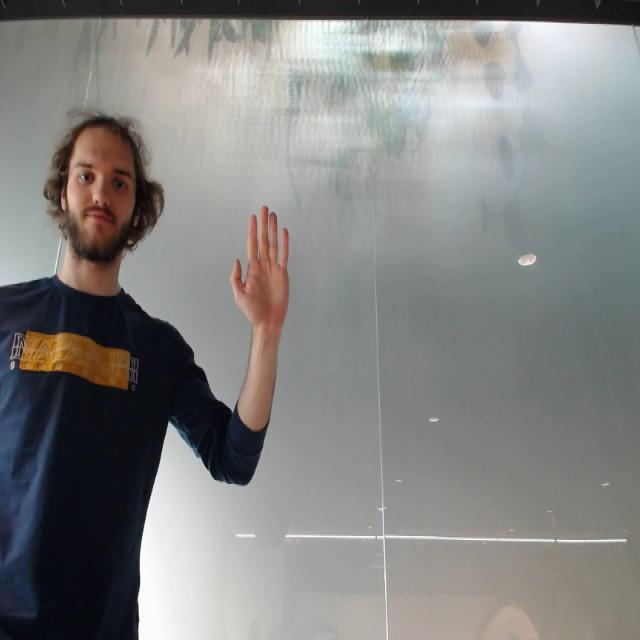backward: (225, 197, 295, 324)
